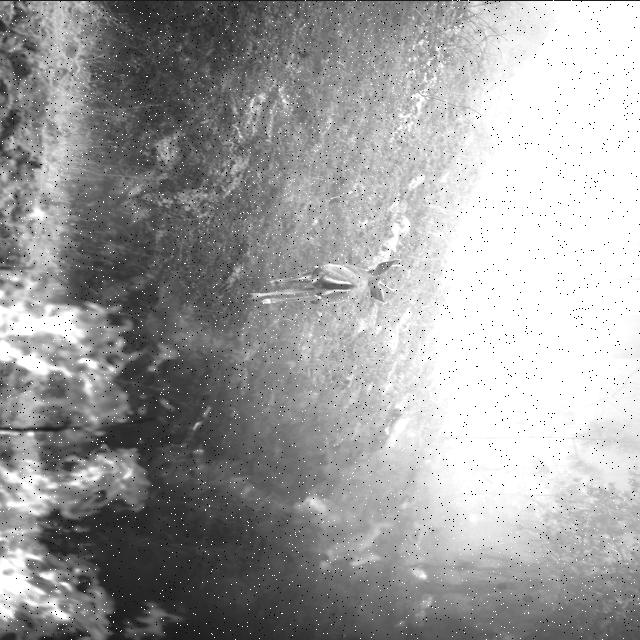api: (1, 264, 200, 640), (310, 517, 400, 573), (397, 544, 438, 637)
asap: (440, 48, 640, 463)
